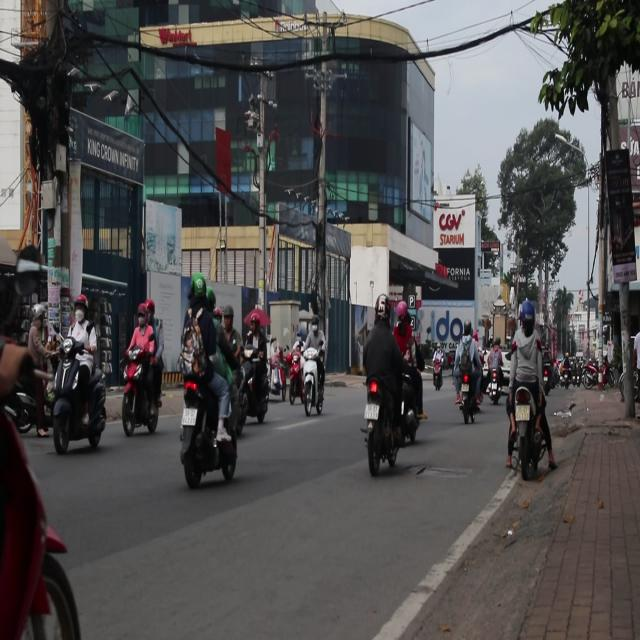motorbike: (42, 315, 108, 455), (180, 371, 240, 490), (121, 307, 164, 437), (361, 379, 402, 476), (509, 381, 547, 482), (0, 357, 40, 441), (239, 328, 272, 426), (282, 342, 313, 410), (302, 345, 328, 416), (458, 372, 485, 424), (433, 347, 446, 393), (488, 371, 502, 405)
